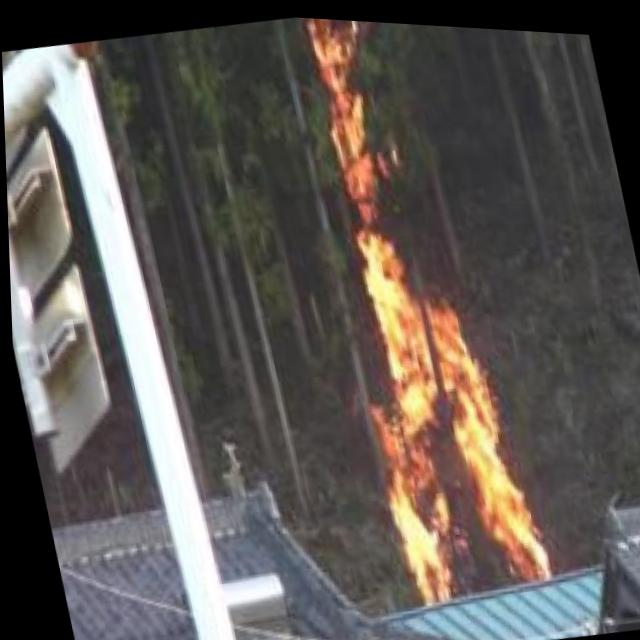Fire: (281, 13, 556, 606)
